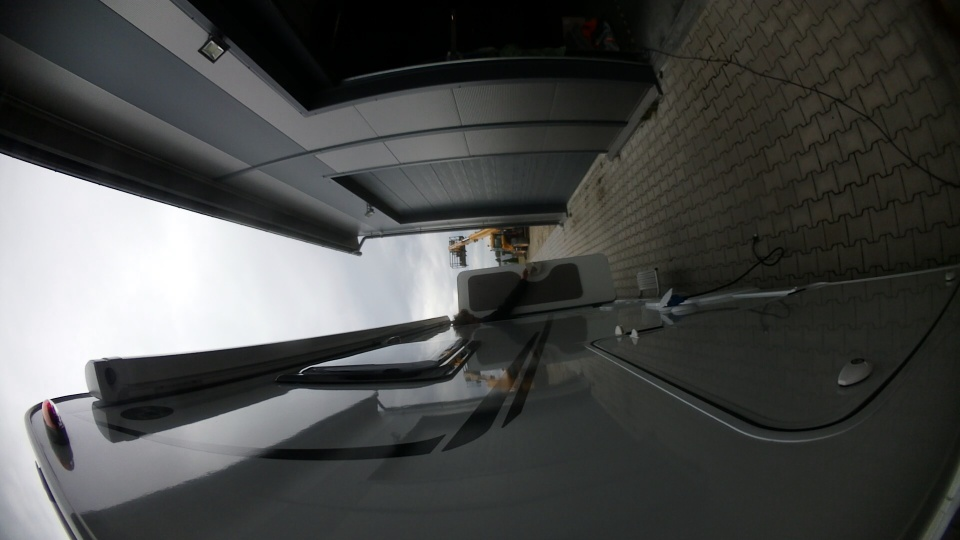door_back: (455, 246, 622, 323)
step_back: (632, 262, 664, 299)
